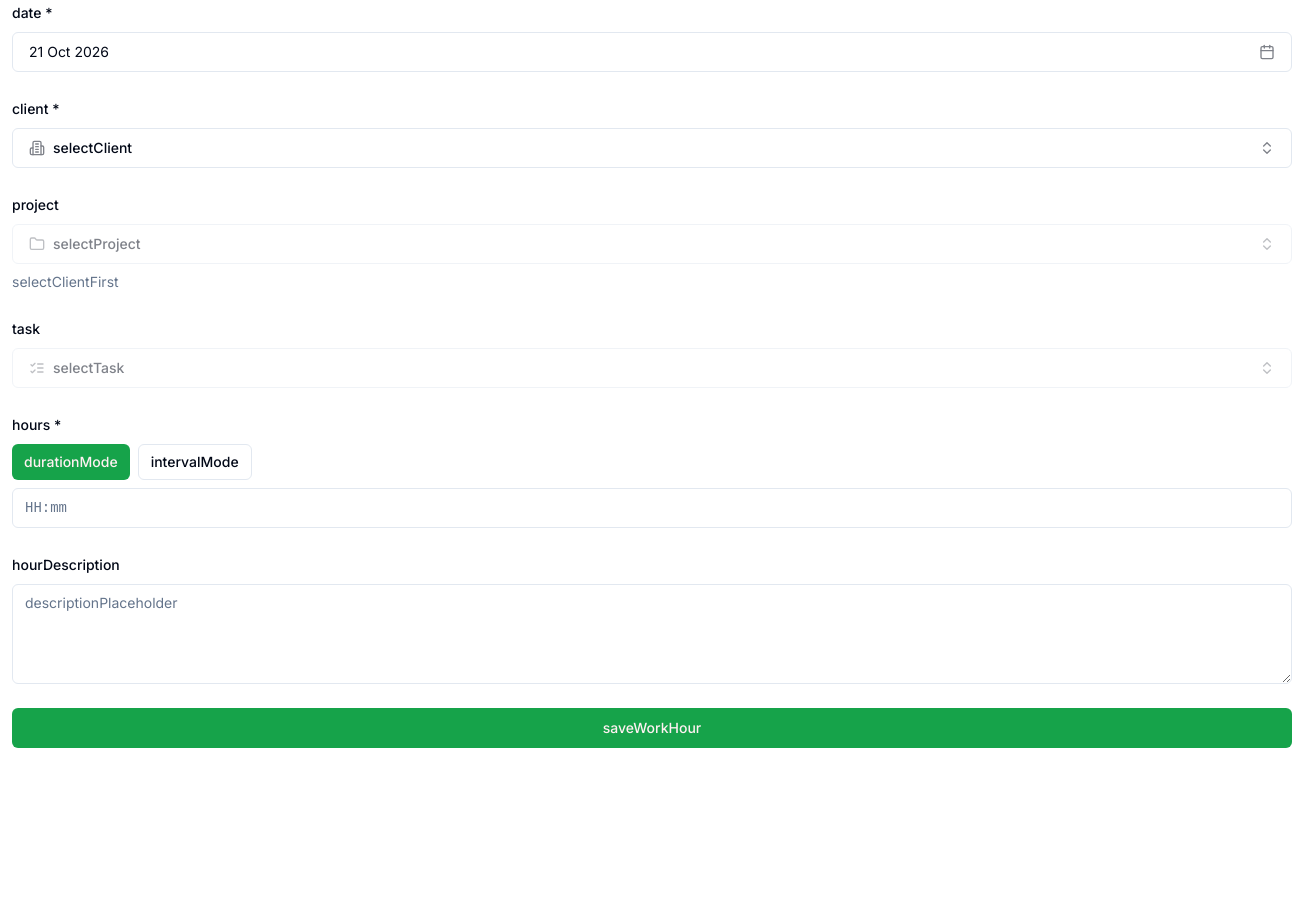
Test: WorkHourForm › entry mode: Hora inicial e hora final shows startTime/endTime inputs
Click the button "intervalMode": (195, 462) [138,444,252,480]
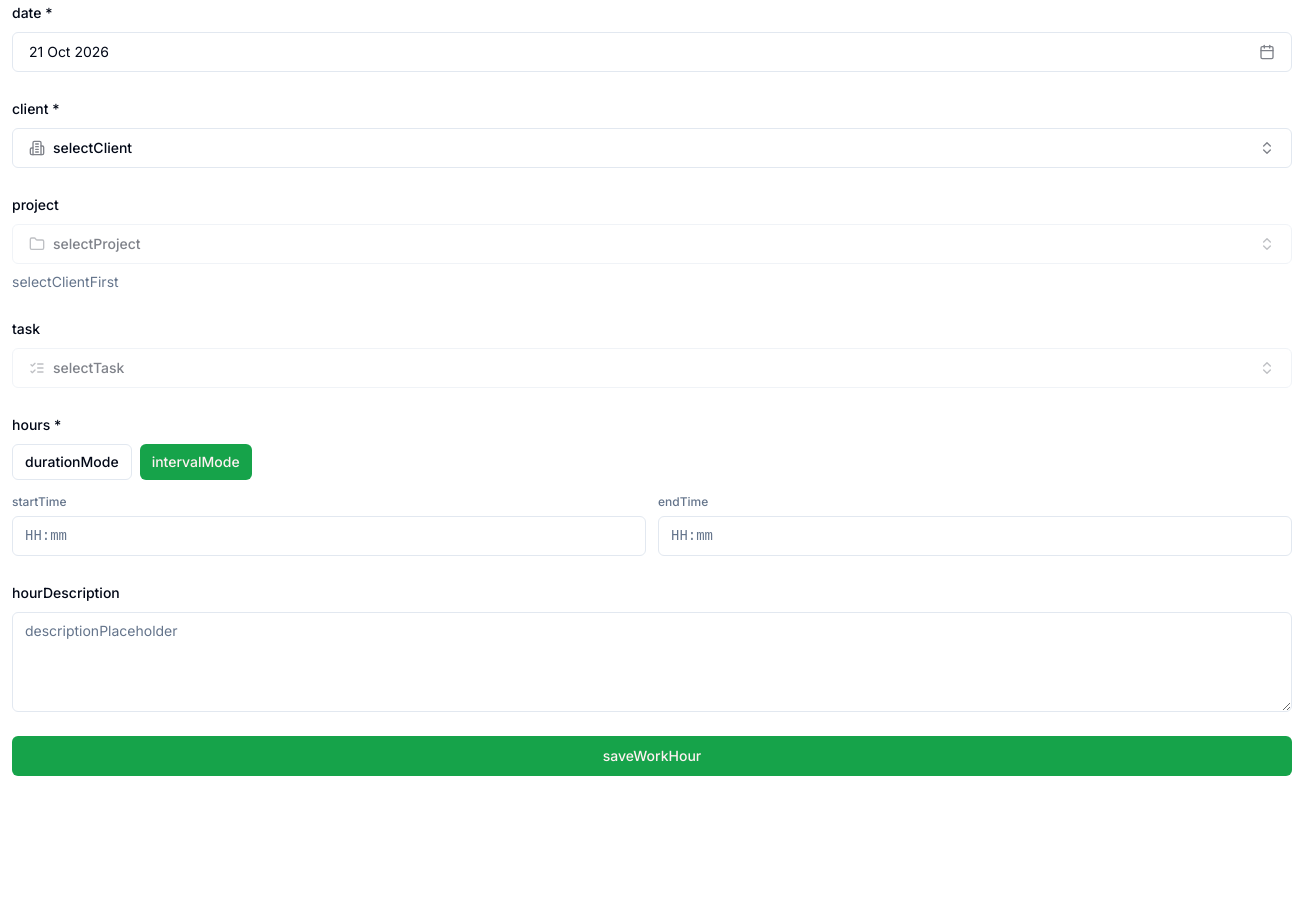
Check: the field with test id "start-time-input" is shown, box [12,516,646,556]
Check: the field with test id "end-time-input" is shown, box [658,516,1292,556]
Check: the number of fields with placeholder "HH:mm" is 2, box [12,516,646,556]; [658,516,1292,556]
